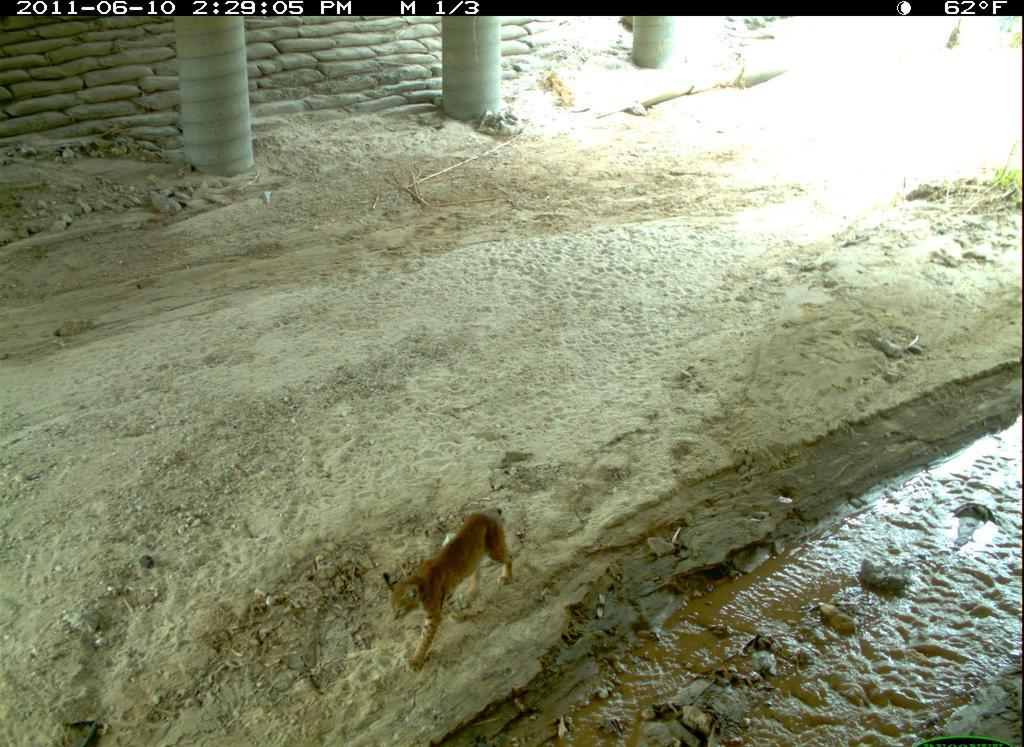bobcat: (368, 497, 541, 671)
